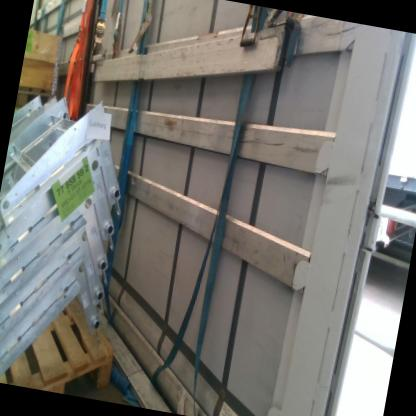pallet: (0, 273, 127, 400), (14, 83, 63, 123)
